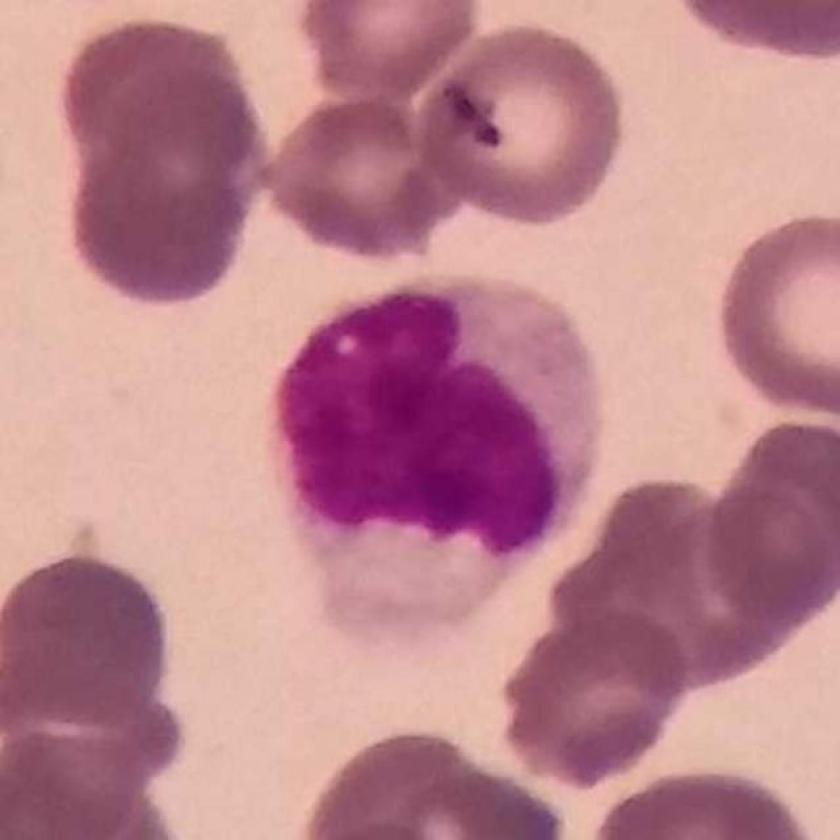monocyte: (277, 266, 614, 660)
